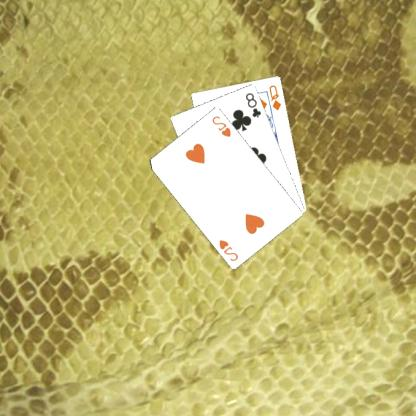2H: (218, 236, 241, 262), (211, 113, 234, 138)
8C: (245, 90, 264, 118)
QD: (268, 82, 285, 112)
